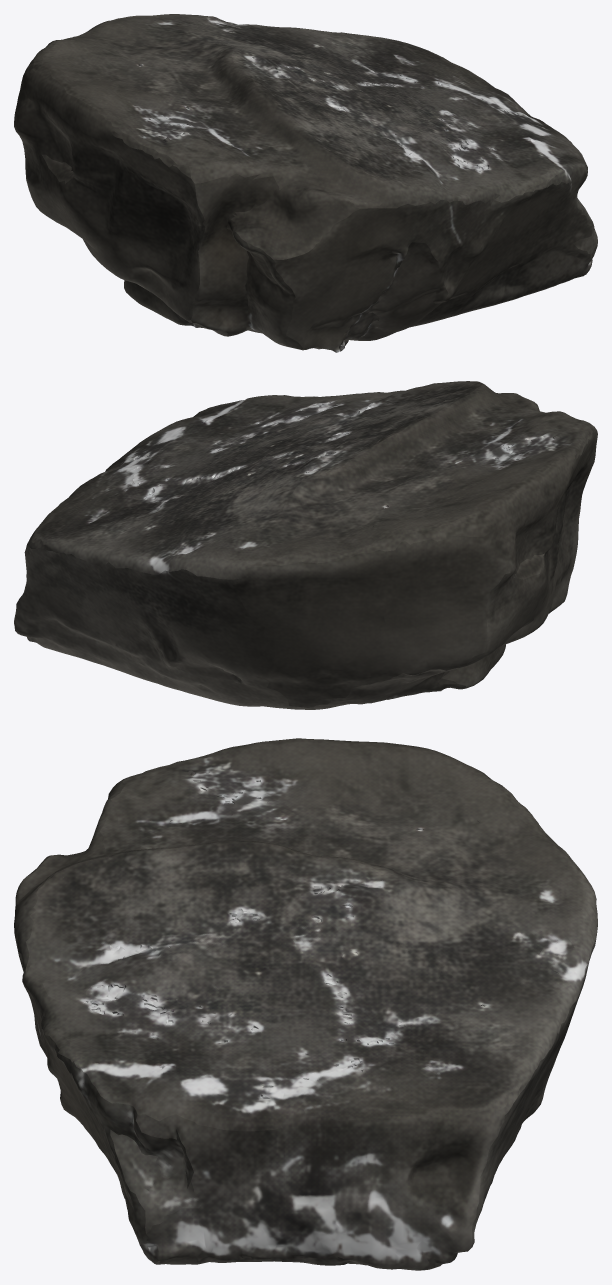
Rendered from look1_T1_B2.glb.
3 renders of one model, top to bottom at view 1: azimuth 30°, elevation 25°; view 2: azimuth 150°, elevation 25°; view 3: azimuth 270°, elevation 25°, orthographic. The views are drawn at different scales.
Visible parts, largest first — view 1: world; view 2: world; view 3: world.
Part boxes in pixels (x1=…): world: x1=14, y1=14, x2=597, y2=352; world: x1=14, y1=381, x2=597, y2=709; world: x1=14, y1=738, x2=597, y2=1270.
Size of the model in its own units: 0.45 by 0.2189 by 0.4129.
Materials: 1 (1 with a texture image).
